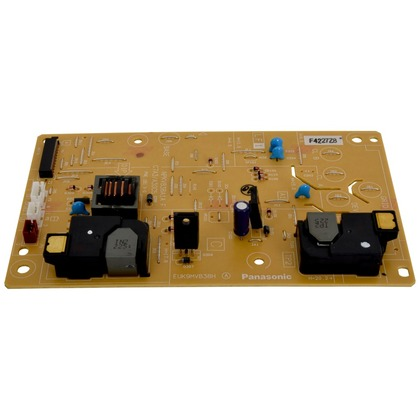capacitor: (234, 202, 250, 236)
